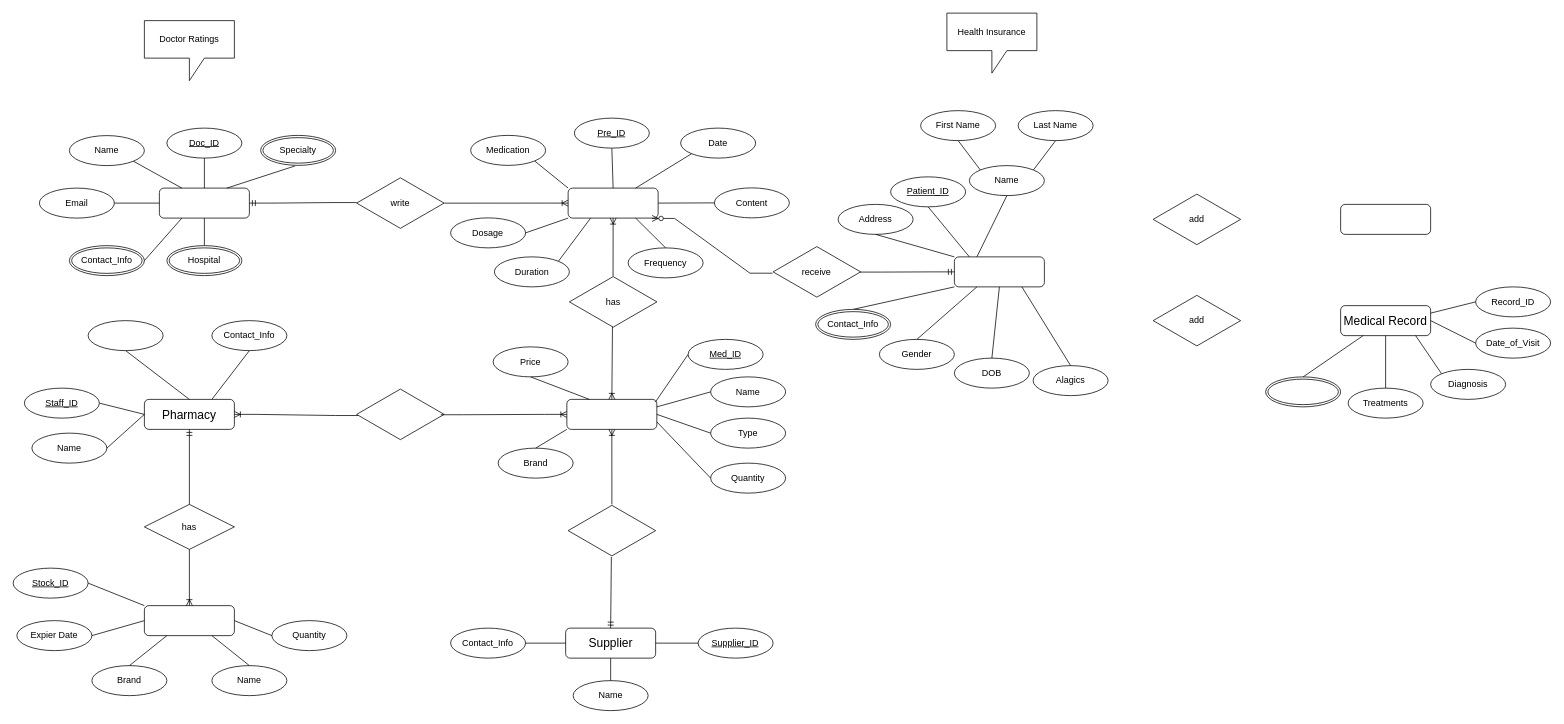
The diagram is 1564 pixels wide and 724 high, and some of its shapes have lost their labels. The centre of each missing label's shape, as x and y in pixels:
dispenses: point (400, 414)
Doctor: point (204, 202)
Doctors History: point (1385, 219)
Medicine: point (611, 414)
Notes: point (1303, 391)
Patient: point (999, 271)
Prescription: point (612, 202)
Provides: point (611, 530)
Role: point (125, 335)
Stock Details: point (189, 620)
